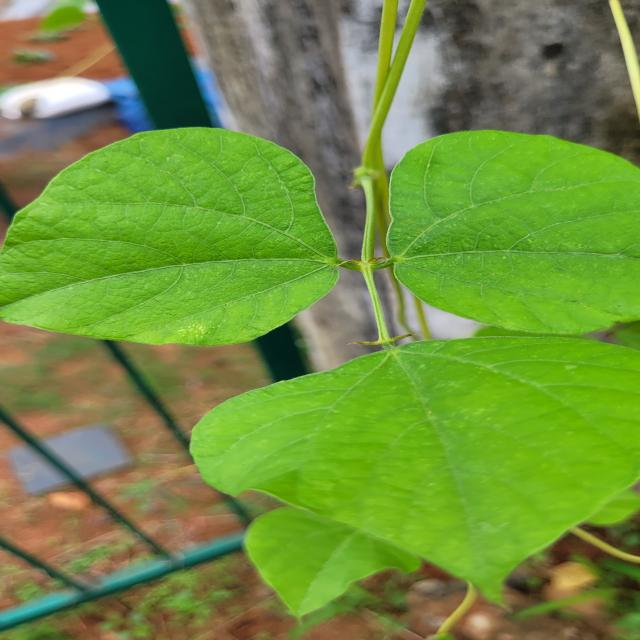Dolicos bean_healthy: (192, 330, 640, 596), (0, 123, 328, 350), (376, 125, 640, 334)
